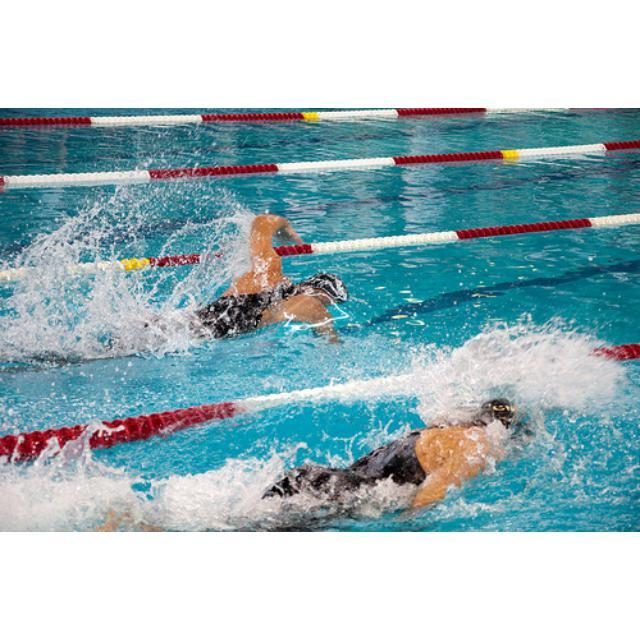human: (259, 397, 520, 531), (192, 218, 350, 347)
